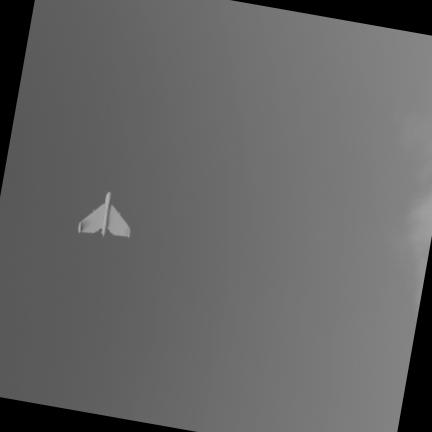Shahed: (79, 191, 130, 236)
